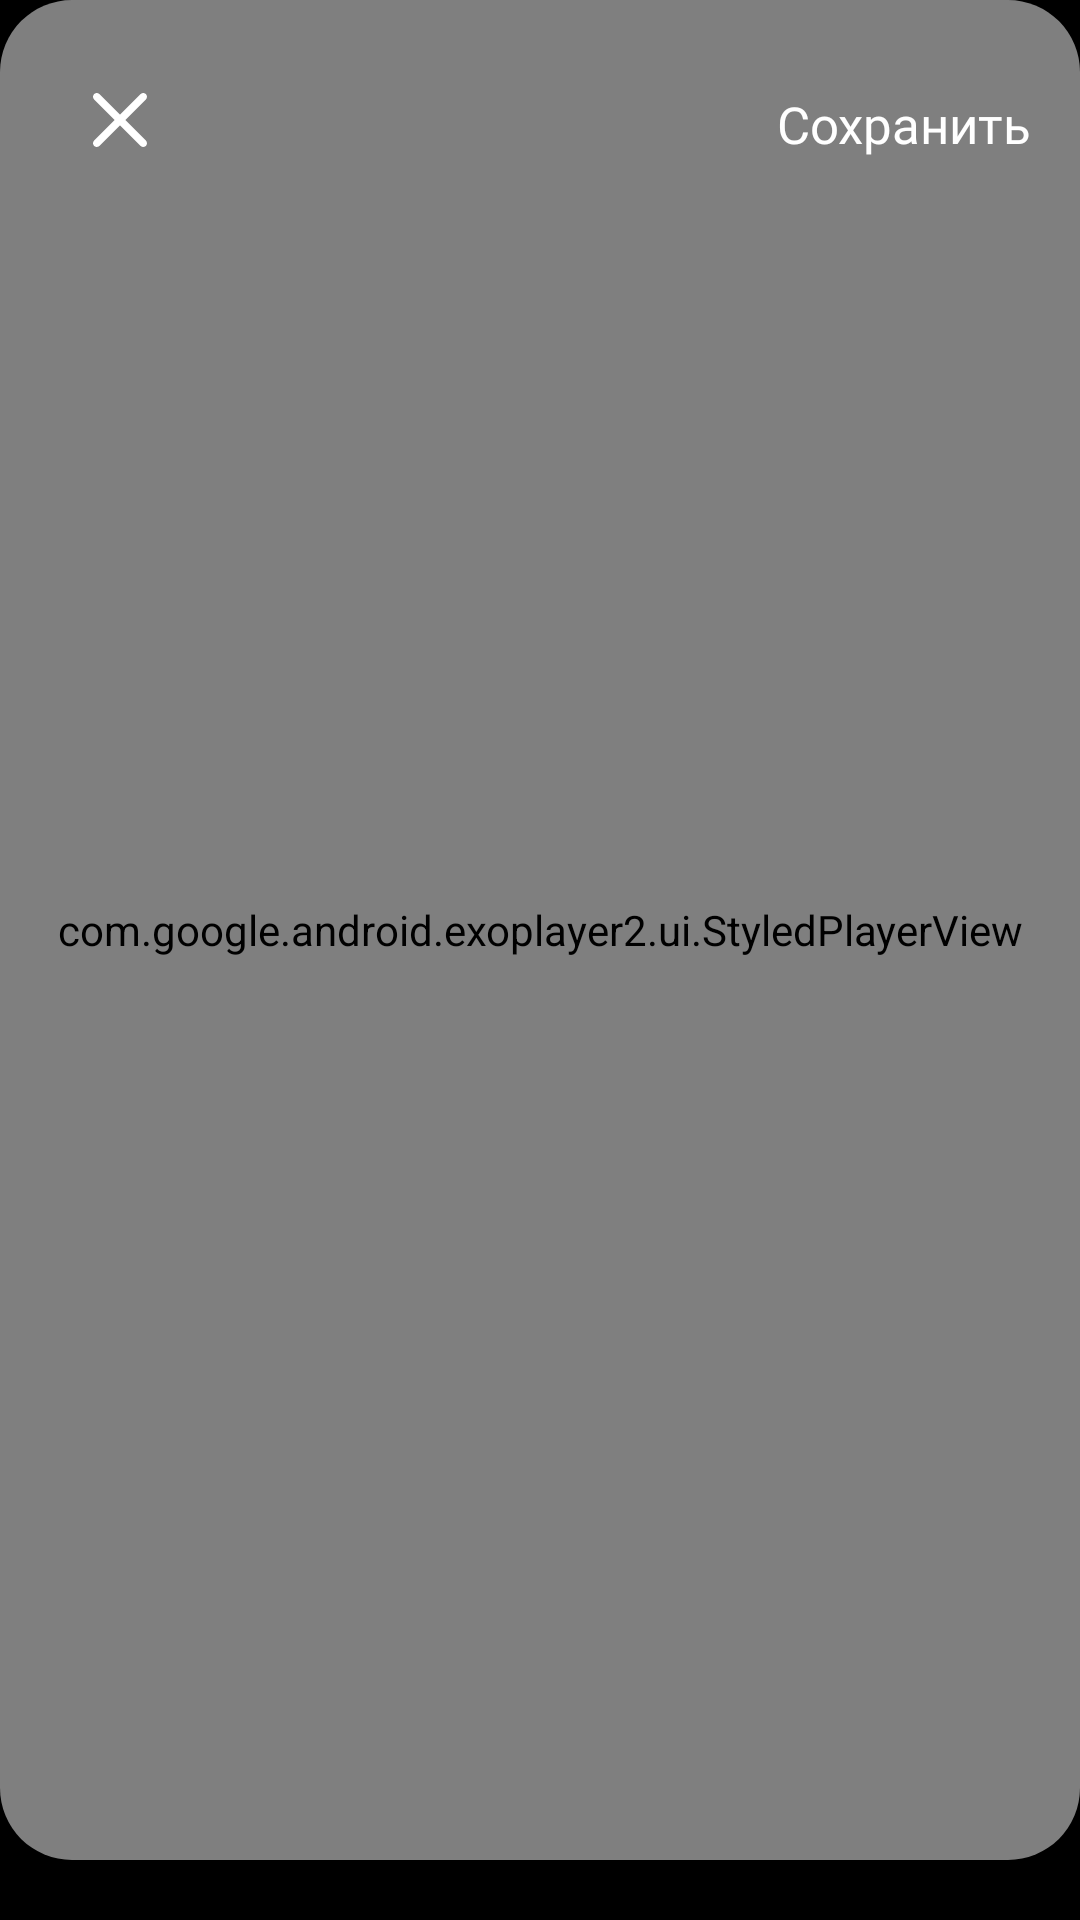

Named icons in this screenshot (1080w x 1920h) and their centers, [x,y]:
editor close: [120,120]
